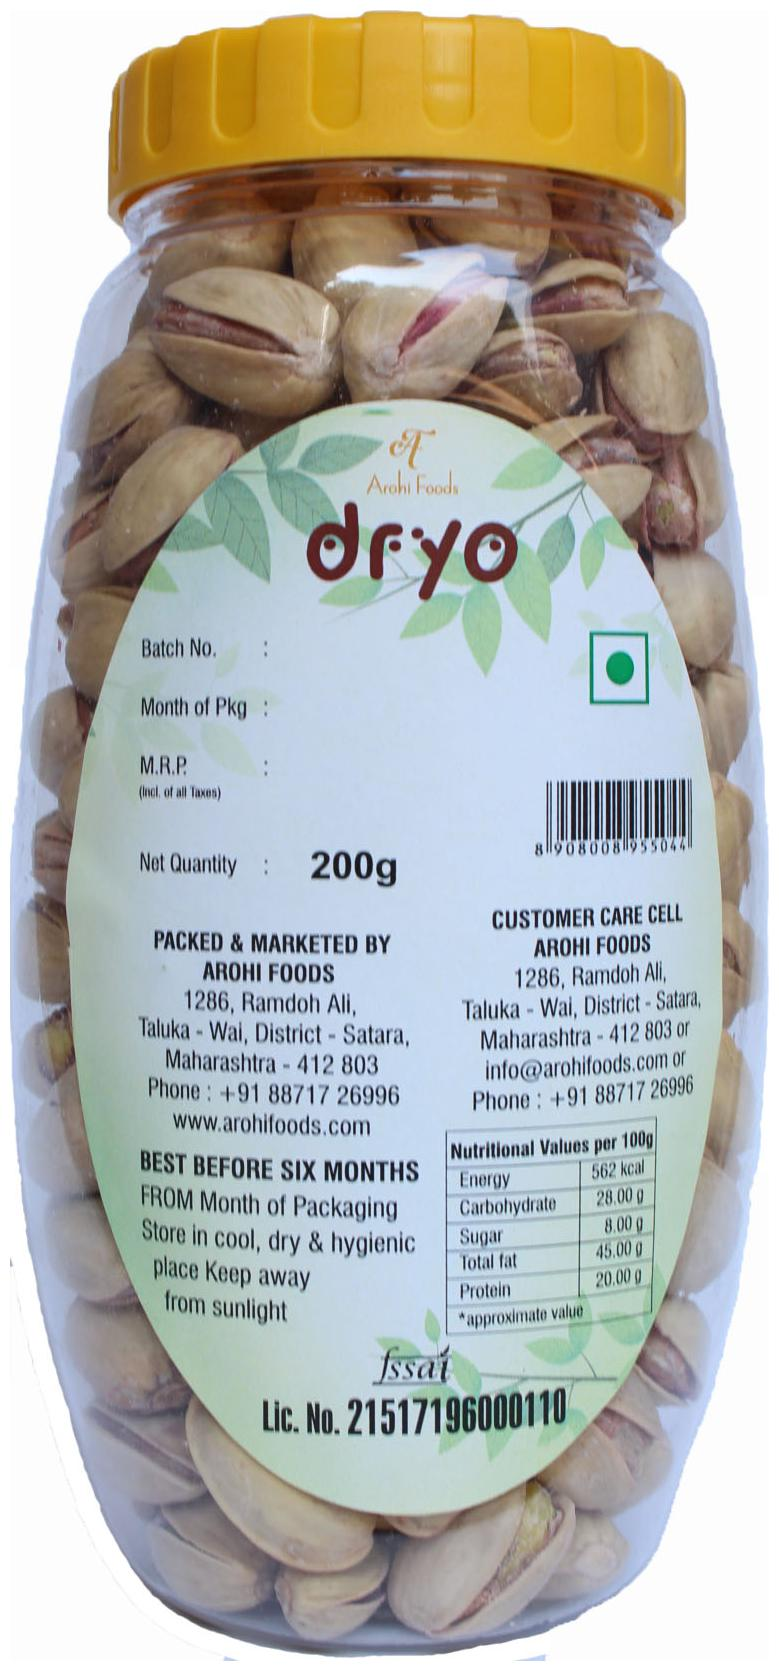fssai: (371, 1346, 453, 1384)
